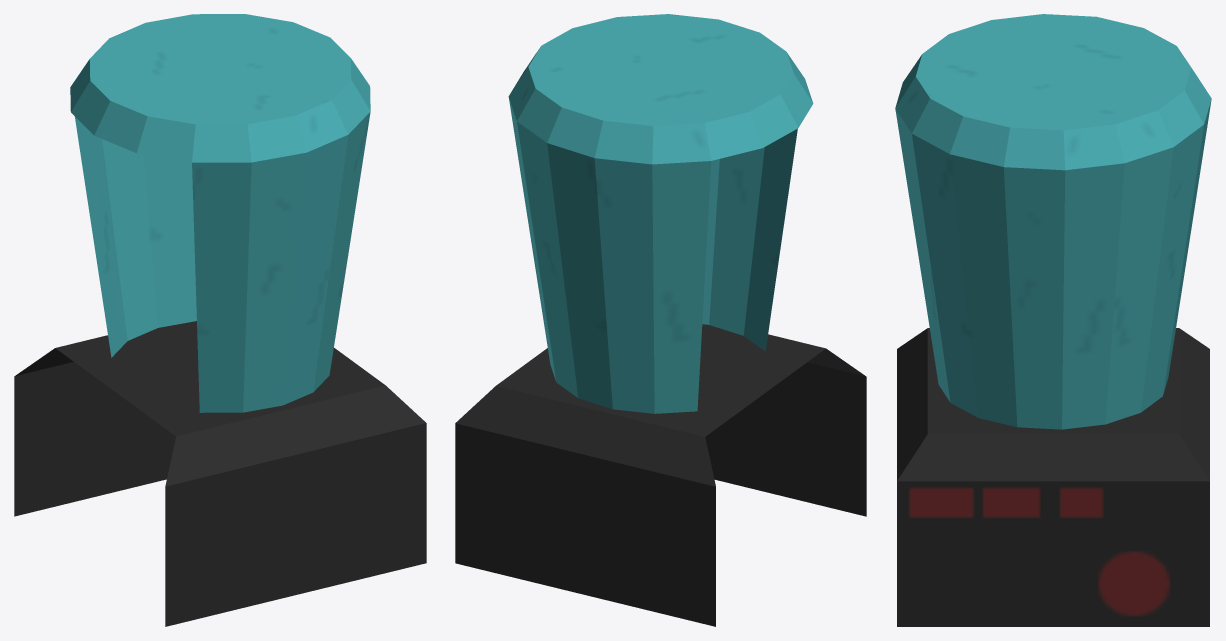
Rendered from JamIndustry.fbx.
3 views of the same model, side by side, from view 1: azimuth 30°, elevation 25°; view 2: azimuth 150°, elevation 25°; view 3: azimuth 270°, elevation 25° (orthographic). The views are drawn at different scales.
Parts seen in each view (by area): view 1: Bowl, Down; view 2: Bowl, Down; view 3: Bowl, Down.
Boxes of the visible parts, left/top/right/bottom form: Bowl: left=70, top=14, right=370, bottom=412; Down: left=14, top=321, right=426, bottom=626; Bowl: left=508, top=14, right=813, bottom=413; Down: left=455, top=324, right=866, bottom=626; Bowl: left=895, top=14, right=1211, bottom=429; Down: left=897, top=328, right=1209, bottom=626.
Bounding box in the file's own units: 165 × 281 × 165.
